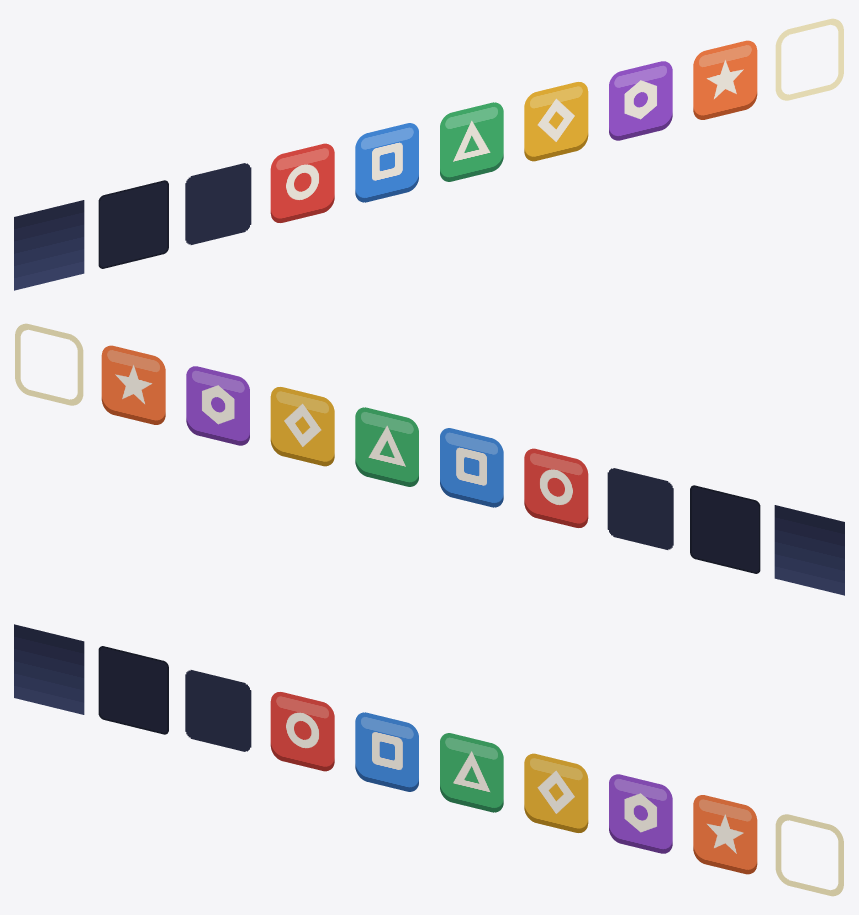
File: sprites.glb
The picture shows the model from 3 angles, top to bottom: view 1: azimuth 30°, elevation 25°; view 2: azimuth 150°, elevation 25°; view 3: azimuth 330°, elevation 25°; orthographic projection.
Visible parts, largest first — view 1: backdrop, board, cell, tile_coral, tile_ruby, tile_sun, tile_plum, tile_sky, tile_leaf, ring; view 2: backdrop, board, cell, tile_coral, tile_ruby, tile_sun, tile_plum, tile_sky, tile_leaf, ring; view 3: backdrop, board, cell, tile_coral, tile_ruby, tile_sun, tile_plum, tile_sky, tile_leaf, ring.
Part boxes in pixels (x1,y1,x2,y2): backdrop: (14,200,84,290); board: (98,180,168,268); cell: (185,163,251,244); tile_coral: (693,40,757,119); tile_ruby: (270,143,334,222); tile_sun: (524,82,588,161); tile_plum: (609,61,672,140); tile_sky: (355,123,418,202); tile_leaf: (440,102,503,181); ring: (775,18,843,100); backdrop: (774,505,844,595); board: (690,485,760,573); cell: (607,468,673,549); tile_coral: (101,345,165,424); tile_ruby: (524,448,588,527); tile_sun: (270,387,334,466); tile_plum: (186,366,249,445); tile_sky: (440,428,503,507); tile_leaf: (355,407,418,486); ring: (15,323,83,405); backdrop: (14,624,84,714); board: (98,646,168,734); cell: (185,670,251,751); tile_coral: (693,795,757,874); tile_ruby: (270,692,334,771); tile_sun: (524,753,588,832); tile_plum: (609,774,672,853); tile_sky: (355,712,418,791); tile_leaf: (440,733,503,812); ring: (775,814,843,896).
Bounding box in the file's own units: 11.8 × 1 × 0.
10 materials, 10 textured.
